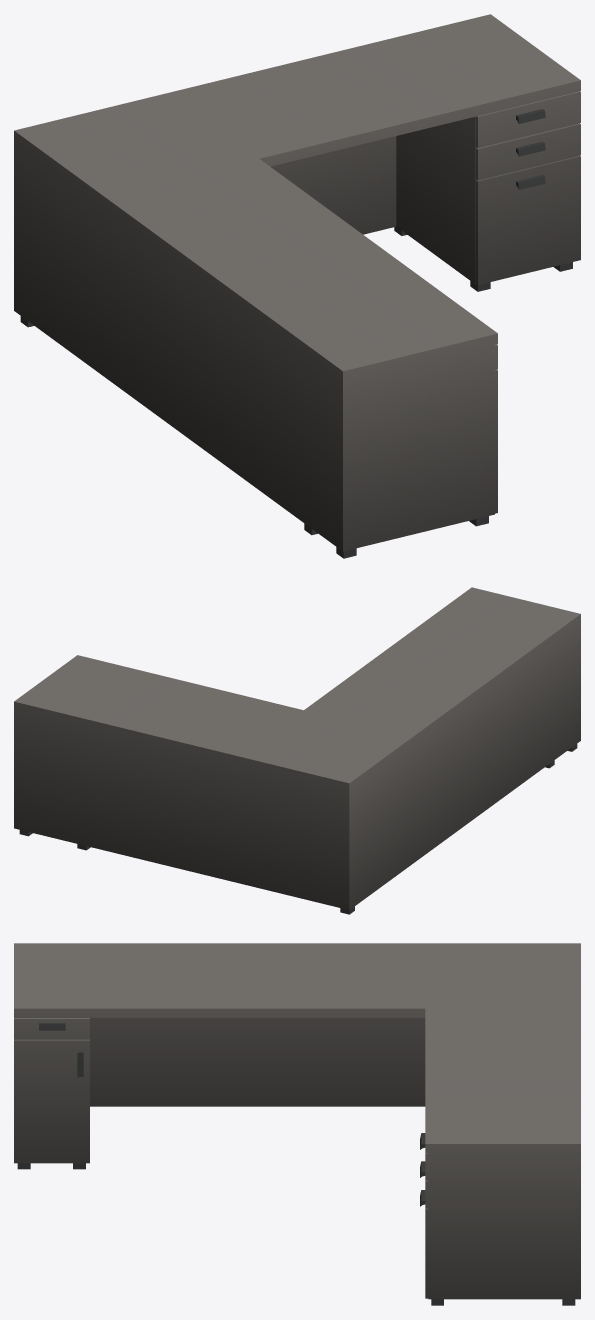
Rendered from Desk_Corner_Booth_A.fbx.
3 views of the same model, one above another, from view 1: azimuth 30°, elevation 25°; view 2: azimuth 150°, elevation 25°; view 3: azimuth 270°, elevation 25° (orthographic). The views are drawn at different scales.
Parts seen in each view (by area): view 1: Desk_Corner_Booth_A; view 2: Desk_Corner_Booth_A; view 3: Desk_Corner_Booth_A.
Part boxes in pixels (<box>): Desk_Corner_Booth_A: <box>14,14,580,558</box>; Desk_Corner_Booth_A: <box>14,587,580,914</box>; Desk_Corner_Booth_A: <box>14,943,580,1305</box>.
Size of the model in its own units: 184 by 70 by 220.
